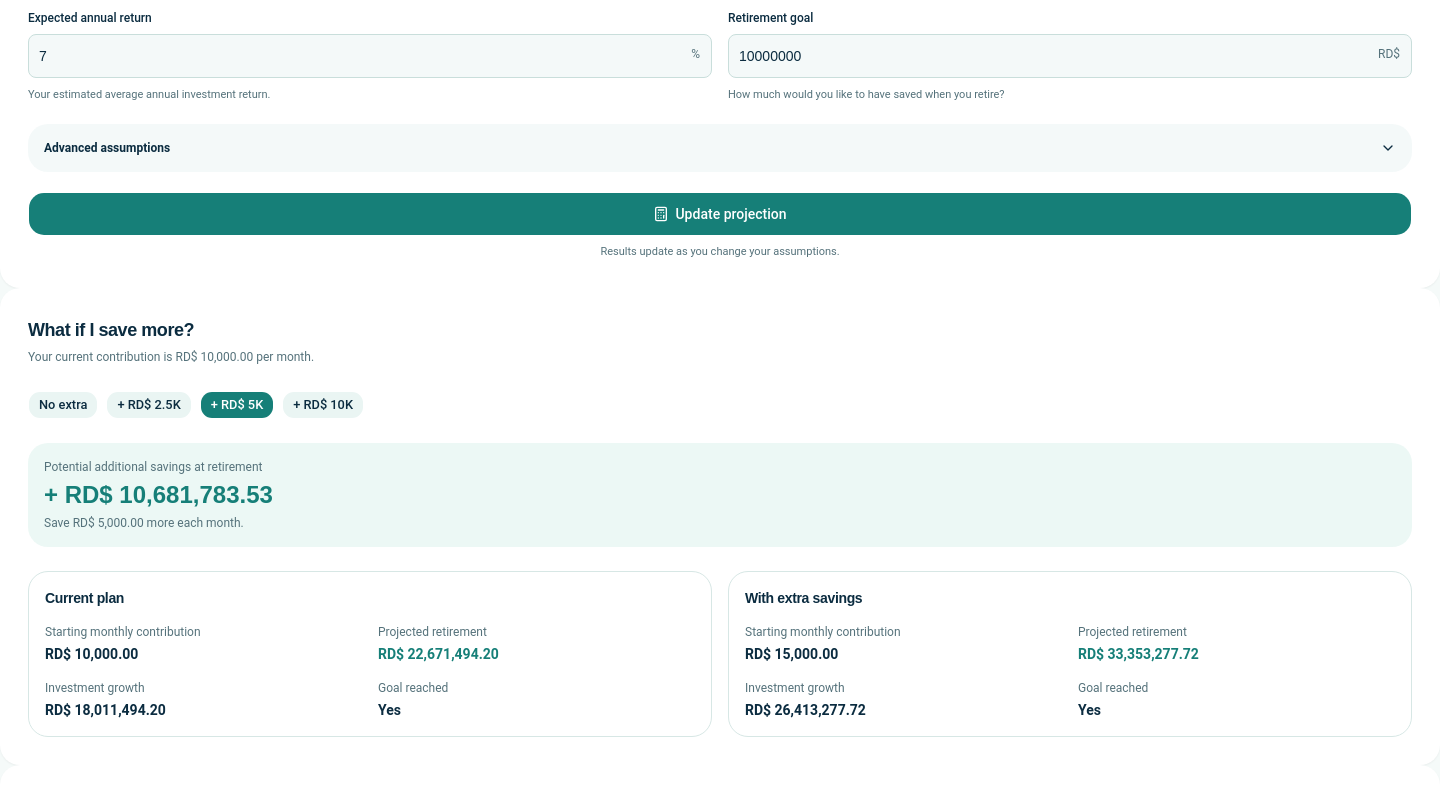
retirement planner controls › selects a savings scenario and expands yearly details without a table
(page scrolled)
Click the button "+ RD$ 2.5K" at {"x": 149, "y": 406}, box 106,392 -> 192,420
(page scrolled)
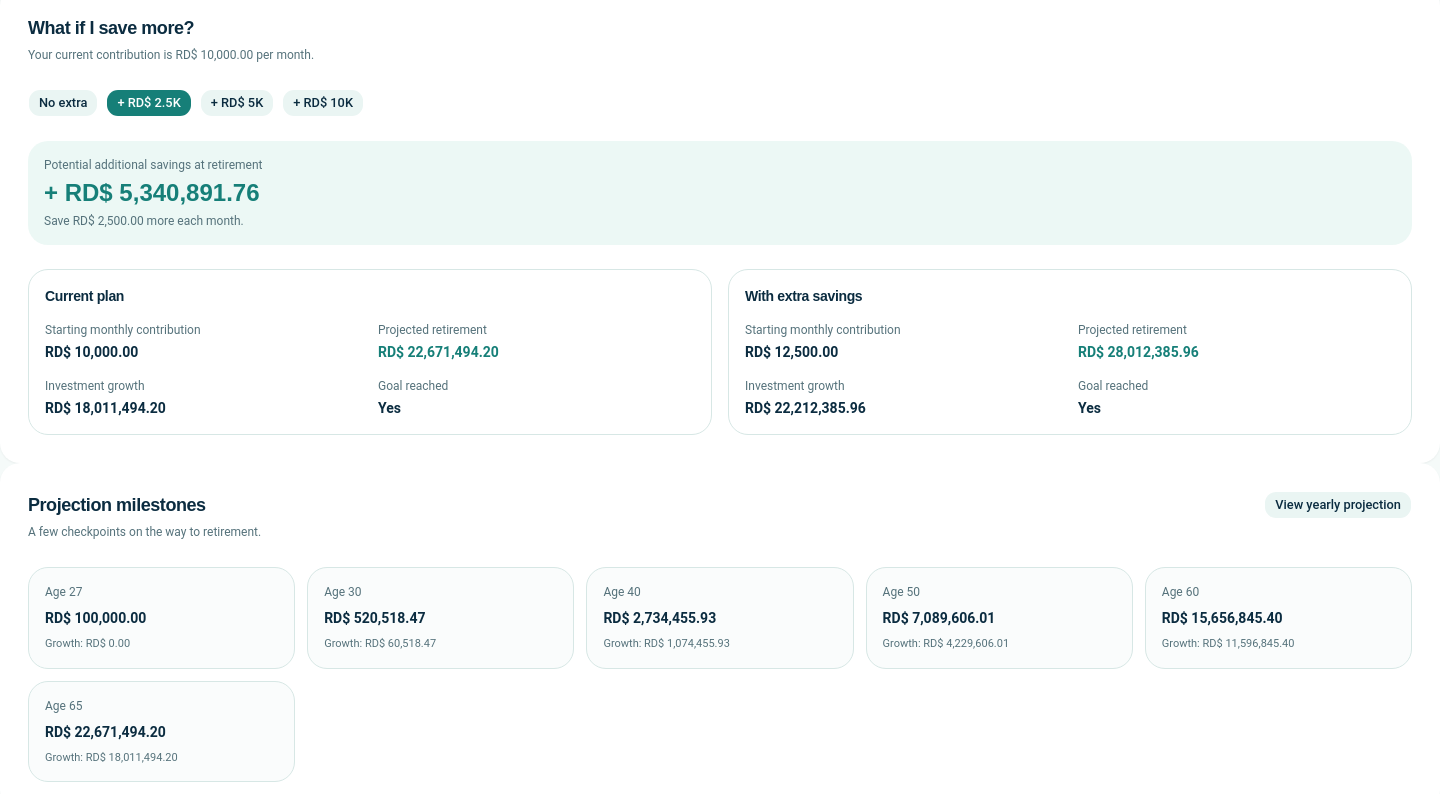
Expected: the text "Age 28" is not shown
Result: the button "+ RD$ 2.5K" is pressed at 106,90 -> 192,118
Click the button "View yearly projection" at {"x": 1338, "y": 506}, box 1264,492 -> 1412,520
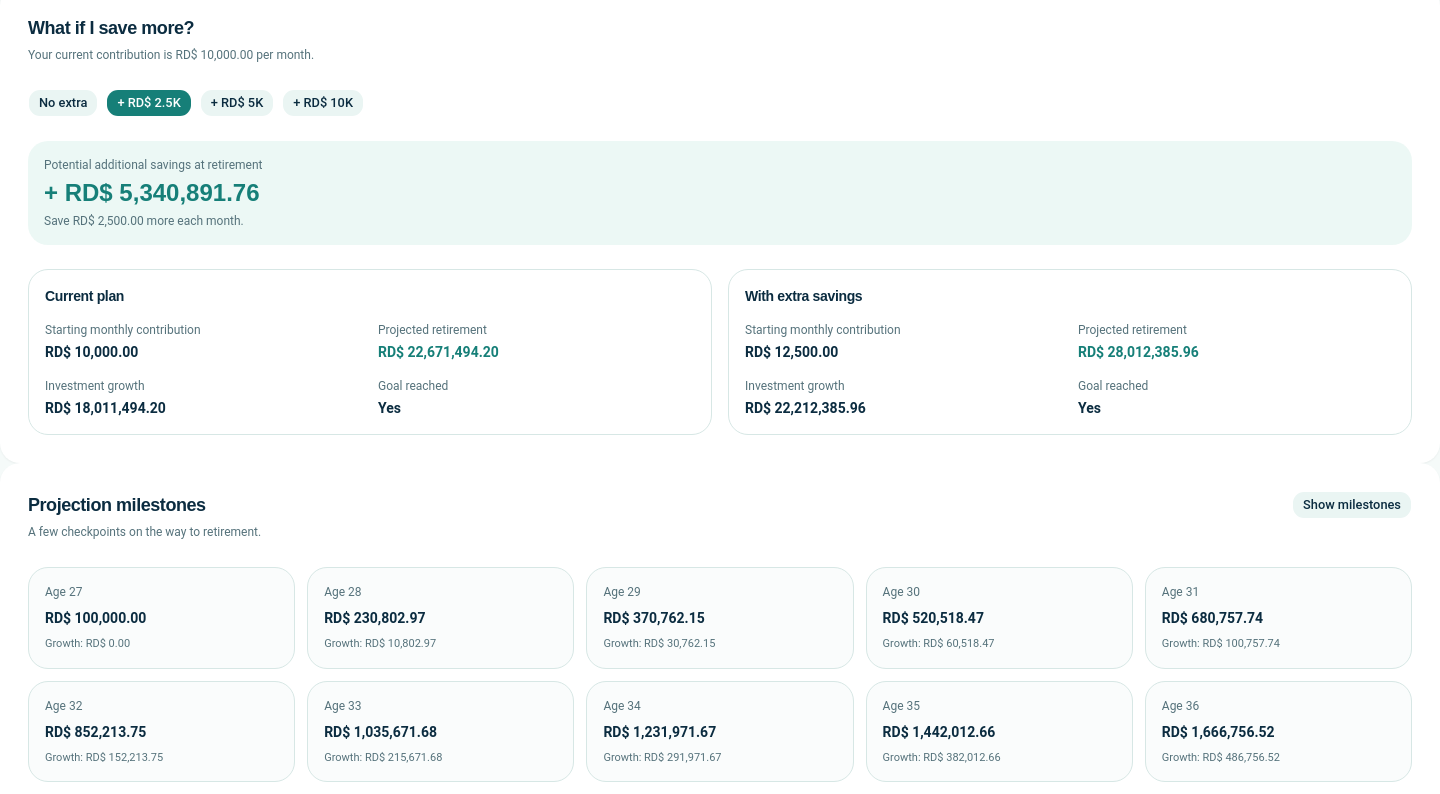
Result: the text "Age 28" is shown at 324,585 -> 362,599
Click the button "Show milestones" at {"x": 1352, "y": 506}, box 1292,492 -> 1412,520
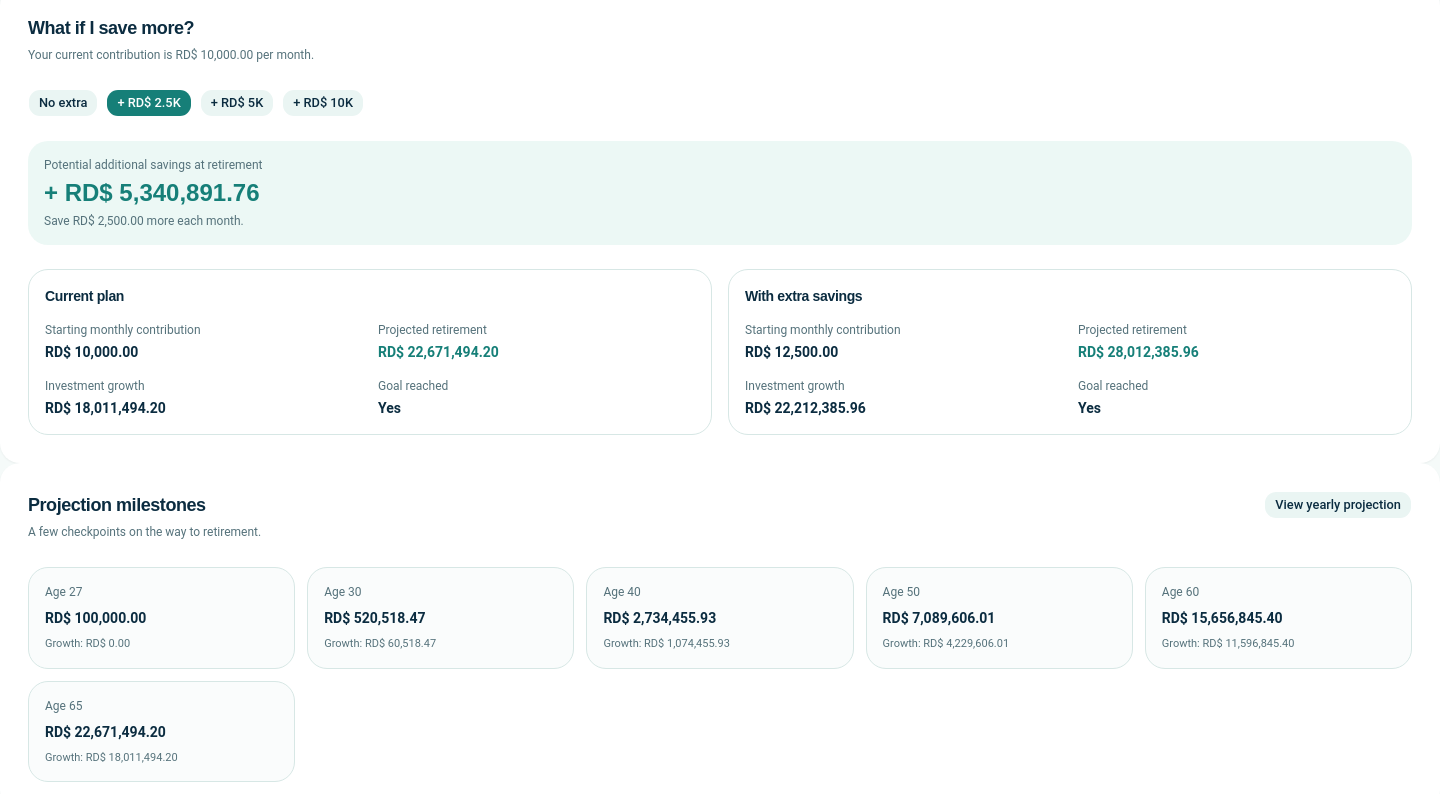
Result: the text "Age 28" is gone
